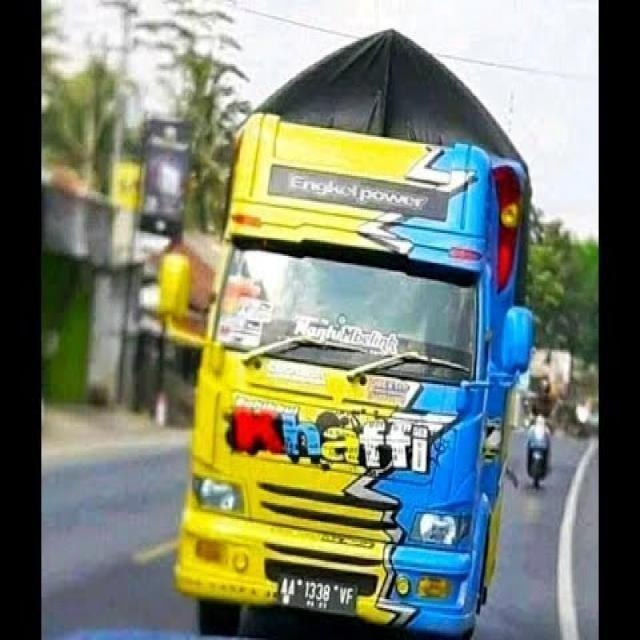Truck: (158, 24, 532, 638)
